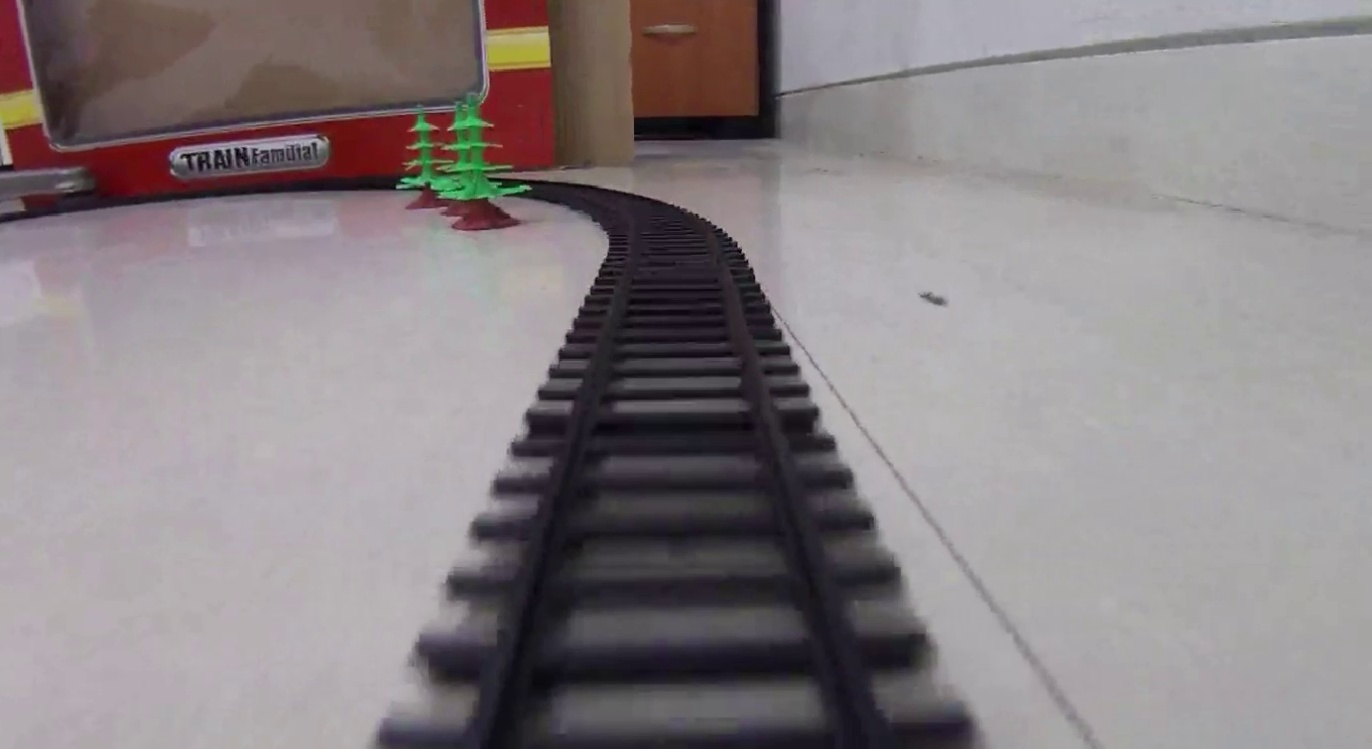tree: (450, 93, 522, 226), (399, 109, 450, 207)
